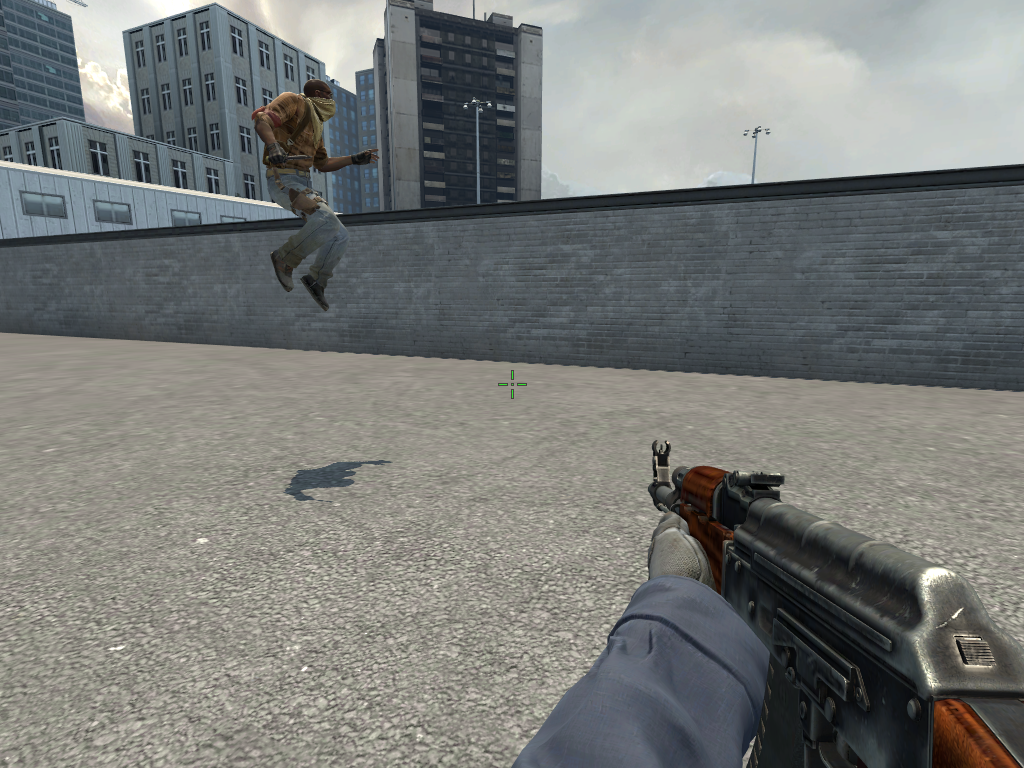tr head: (301, 73, 338, 122)
